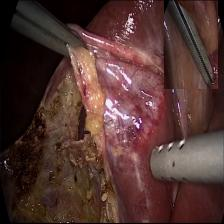Grasper: (13, 0, 86, 67), (164, 0, 218, 89)
Irrigator: (146, 133, 208, 192)
